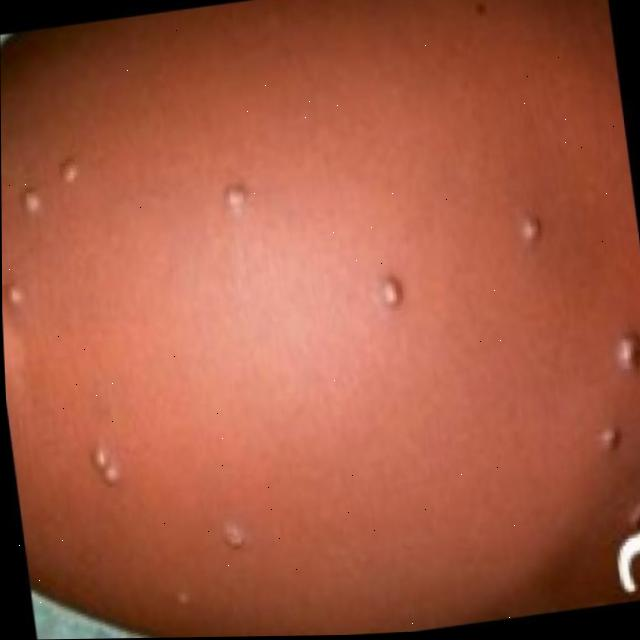Eczema: (210, 170, 249, 211), (610, 327, 640, 376), (377, 273, 410, 316), (87, 445, 119, 480), (2, 274, 28, 306), (16, 185, 46, 210), (216, 526, 249, 547), (522, 210, 541, 246), (56, 157, 80, 184), (597, 417, 618, 443)
